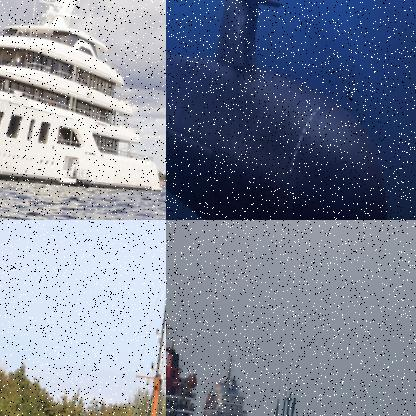Merchant Ship: (166, 342, 262, 415), (166, 304, 210, 415)
Sails Boat: (45, 220, 165, 415)
Submarine: (166, 0, 415, 219), (212, 382, 360, 415)
Yacht: (0, 0, 165, 205)
